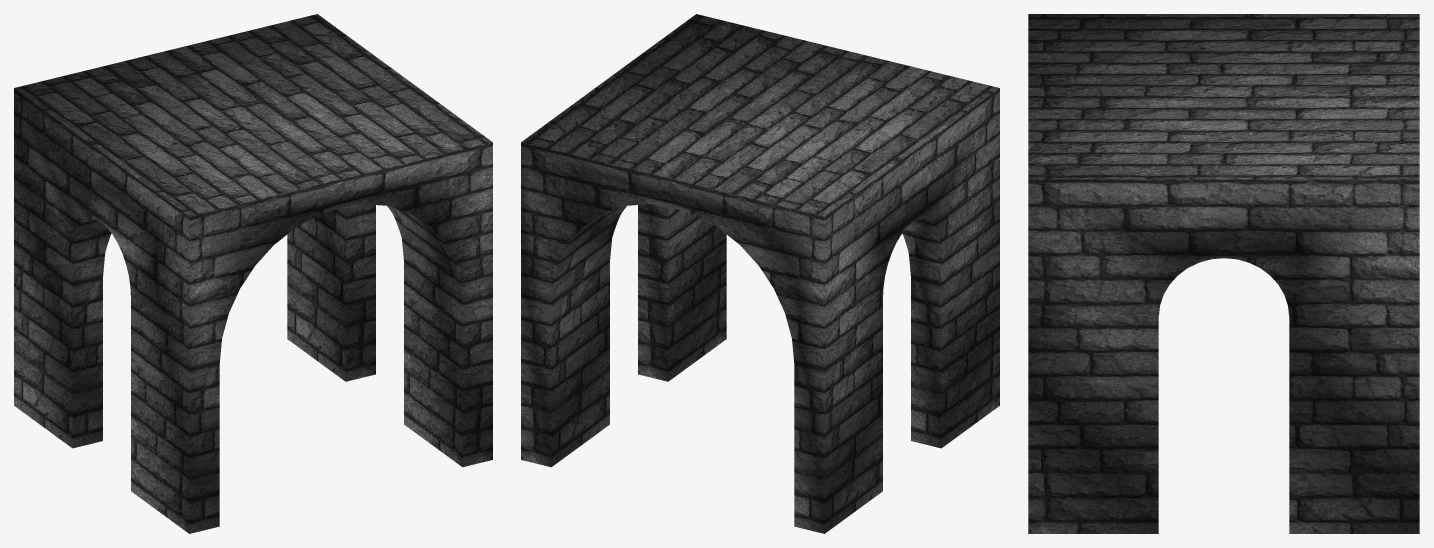
The model's file is stone block walk way2.glb.
3 views of the same model, side by side, from view 1: azimuth 30°, elevation 25°; view 2: azimuth 150°, elevation 25°; view 3: azimuth 270°, elevation 25° (orthographic). The views are drawn at different scales.
Parts seen in each view (by area): view 1: Circular Arch Hall, doors; view 2: Circular Arch Hall, doors; view 3: Circular Arch Hall, doors.
Part boxes in pixels (<box>): Circular Arch Hall, doors: <box>14,14,492,533</box>; Circular Arch Hall, doors: <box>521,14,999,533</box>; Circular Arch Hall, doors: <box>1028,14,1419,533</box>.
Size of the model in its own units: 2.74 by 2.74 by 2.74.
Materials: 1 (1 with a texture image).
